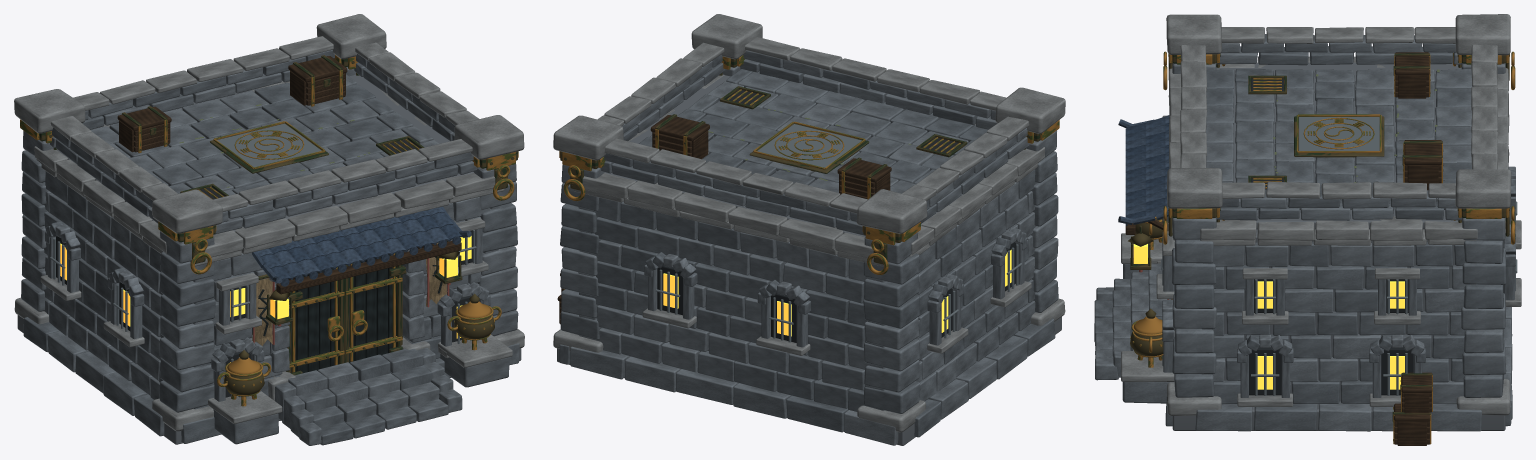
The model's file is treasury.glb.
3 views of the same model, side by side, from view 1: azimuth 30°, elevation 25°; view 2: azimuth 150°, elevation 25°; view 3: azimuth 270°, elevation 25° (orthographic). The views are drawn at different scales.
Parts seen in each view (by area): view 1: Treasury | Worn cut edges, Treasury | Basalt 03, Treasury | Basalt 02, Treasury | Basalt 01, Treasury | Basalt 00, Treasury | Basalt 04, Treasury | Old gilded bronze, Treasury | Dark oxidised bronze, Treasury | Charcoal lacquer, Treasury | Smoked oak, Treasury | Forged iron, Treasury | Blue ceramic 1 (+6 smaller); view 2: Treasury | Worn cut edges, Treasury | Basalt 03, Treasury | Basalt 02, Treasury | Basalt 01, Treasury | Basalt 00, Treasury | Basalt 04, Treasury | Old gilded bronze, Treasury | Forged iron, Treasury | Smoked oak, Treasury | Dark oxidised bronze, Treasury | Unlit interior, Treasury | Deep joints (+1 smaller); view 3: Treasury | Worn cut edges, Treasury | Basalt 02, Treasury | Basalt 01, Treasury | Basalt 03, Treasury | Basalt 04, Treasury | Basalt 00, Treasury | Smoked oak, Treasury | Old gilded bronze, Treasury | Deep joints, Treasury | Dark oxidised bronze, Treasury | Forged iron, Treasury | Unlit interior (+4 smaller).
Part boxes in pixels (x1=…): Treasury | Worn cut edges: x1=14, y1=14, x2=524, y2=431; Treasury | Basalt 03: x1=21, y1=67, x2=517, y2=445; Treasury | Basalt 02: x1=21, y1=62, x2=519, y2=444; Treasury | Basalt 01: x1=21, y1=50, x2=518, y2=443; Treasury | Basalt 00: x1=21, y1=68, x2=517, y2=445; Treasury | Basalt 04: x1=22, y1=53, x2=516, y2=405; Treasury | Old gilded bronze: x1=20, y1=55, x2=518, y2=406; Treasury | Dark oxidised bronze: x1=39, y1=55, x2=517, y2=395; Treasury | Charcoal lacquer: x1=258, y1=254, x2=442, y2=373; Treasury | Smoked oak: x1=117, y1=56, x2=461, y2=294; Treasury | Forged iron: x1=50, y1=123, x2=476, y2=398; Treasury | Blue ceramic 1: x1=261, y1=210, x2=461, y2=286; Treasury | Worn cut edges: x1=553, y1=14, x2=1065, y2=432; Treasury | Basalt 03: x1=560, y1=66, x2=1058, y2=419; Treasury | Basalt 02: x1=560, y1=59, x2=1057, y2=392; Treasury | Basalt 01: x1=559, y1=50, x2=1058, y2=413; Treasury | Basalt 00: x1=560, y1=54, x2=1058, y2=437; Treasury | Basalt 04: x1=561, y1=59, x2=1057, y2=445; Treasury | Old gilded bronze: x1=559, y1=55, x2=1059, y2=289; Treasury | Forged iron: x1=655, y1=124, x2=1022, y2=342; Treasury | Smoked oak: x1=557, y1=115, x2=891, y2=324; Treasury | Dark oxidised bronze: x1=560, y1=58, x2=1040, y2=264; Treasury | Unlit interior: x1=657, y1=89, x2=1015, y2=342; Treasury | Deep joints: x1=557, y1=75, x2=1061, y2=445; Treasury | Worn cut edges: x1=1121, y1=14, x2=1521, y2=415; Treasury | Basalt 02: x1=1095, y1=34, x2=1515, y2=431; Treasury | Basalt 01: x1=1094, y1=35, x2=1515, y2=430; Treasury | Basalt 03: x1=1095, y1=46, x2=1515, y2=431; Treasury | Basalt 04: x1=1112, y1=35, x2=1515, y2=431; Treasury | Basalt 00: x1=1094, y1=46, x2=1515, y2=403; Treasury | Smoked oak: x1=1125, y1=52, x2=1441, y2=445; Treasury | Old gilded bronze: x1=1130, y1=51, x2=1515, y2=444; Treasury | Deep joints: x1=1172, y1=62, x2=1505, y2=430; Treasury | Dark oxidised bronze: x1=1128, y1=53, x2=1509, y2=440; Treasury | Forged iron: x1=1161, y1=117, x2=1517, y2=395; Treasury | Unlit interior: x1=1249, y1=78, x2=1503, y2=395.
Bounding box in the file's own units: 6.04 × 3.45 × 5.49.
Materials: 22 (14 with a texture image).
